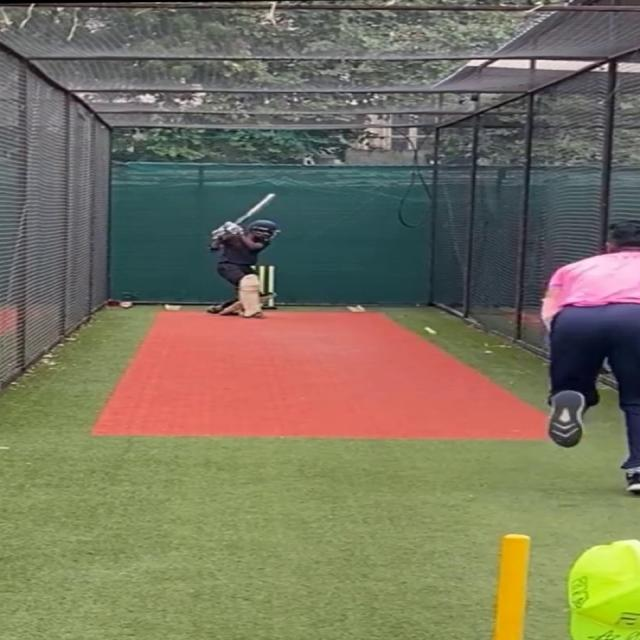stump: (256, 264, 281, 310)
